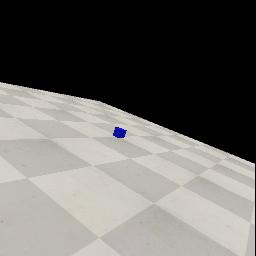box: (113, 127, 127, 138)
